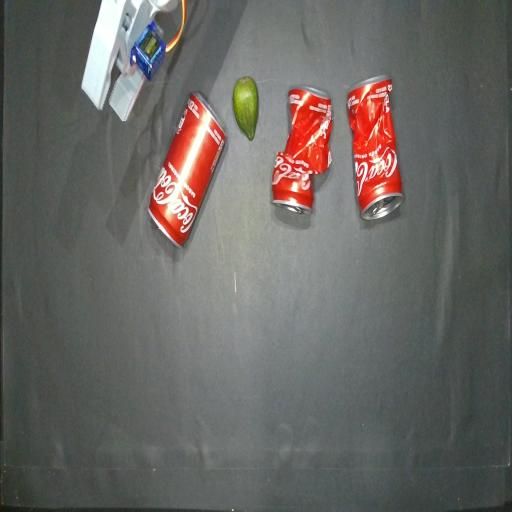higo: (233, 77, 258, 140)
lata: (148, 92, 226, 247)
lata_defectuoso: (347, 75, 403, 220), (272, 87, 333, 213)
